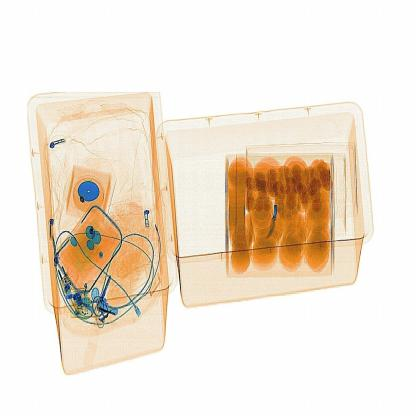wrench: (258, 193, 282, 247)
